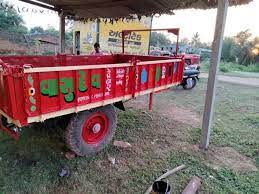wheel: (69, 116, 115, 153)
